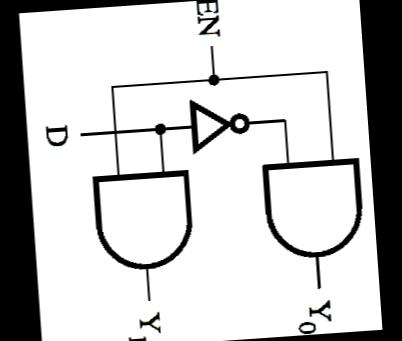and: (84, 160, 200, 280), (257, 150, 370, 267)
not: (178, 88, 259, 160)
